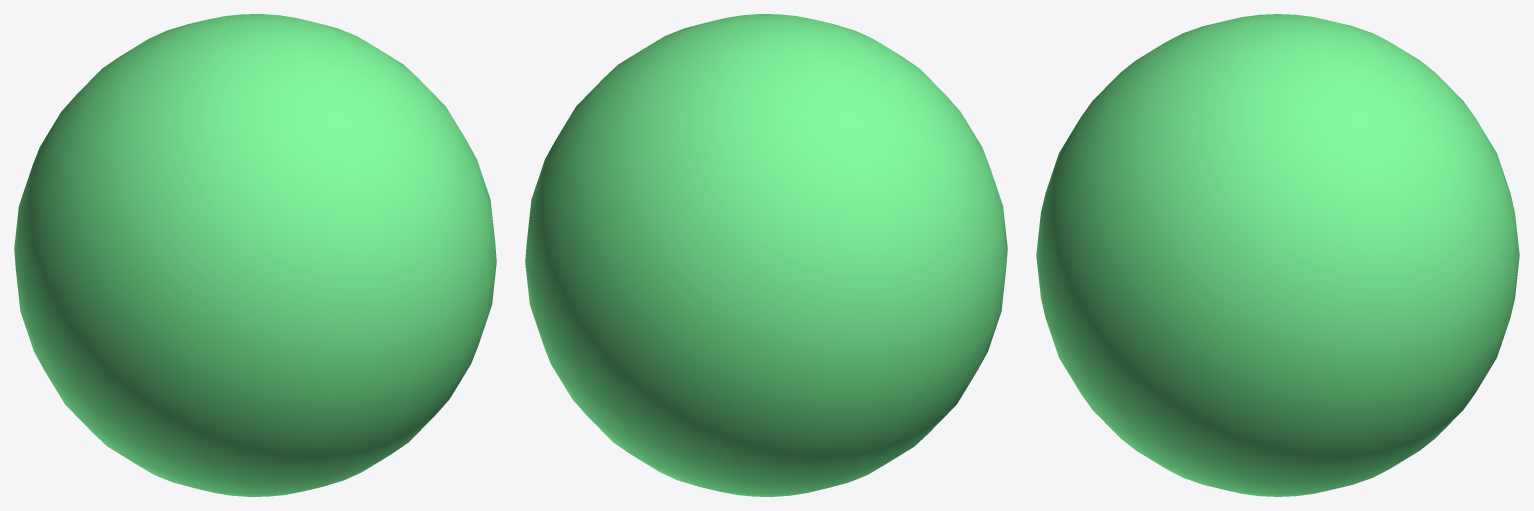
Rendered from sawn-off-shotgun-pickup.glb.
3 renders of one model, left to right at view 1: azimuth 30°, elevation 25°; view 2: azimuth 150°, elevation 25°; view 3: azimuth 270°, elevation 25°, orthographic.
Parts seen in each view (by area): view 1: Pickup_Bubble.002; view 2: Pickup_Bubble.002; view 3: Pickup_Bubble.002.
Part boxes in pixels (<box>): Pickup_Bubble.002: <box>14,14,496,496</box>; Pickup_Bubble.002: <box>525,14,1007,496</box>; Pickup_Bubble.002: <box>1036,14,1519,496</box>.
Bounding box in the file's own units: 1 × 1 × 1.
